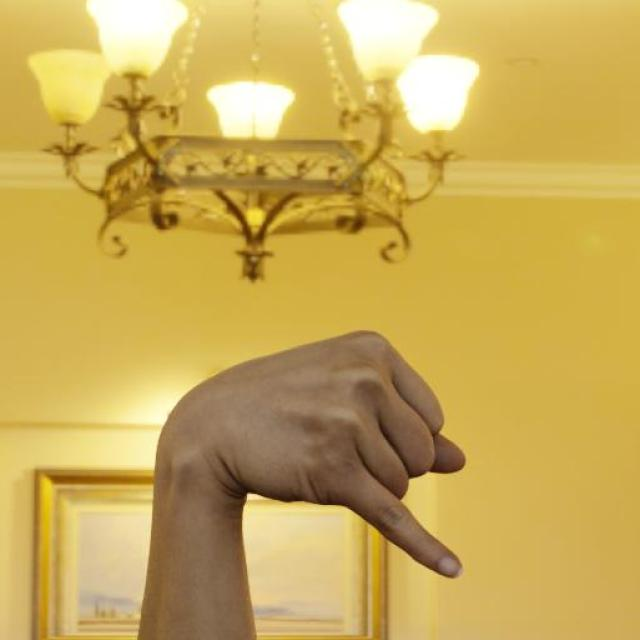J: (144, 324, 467, 584)
